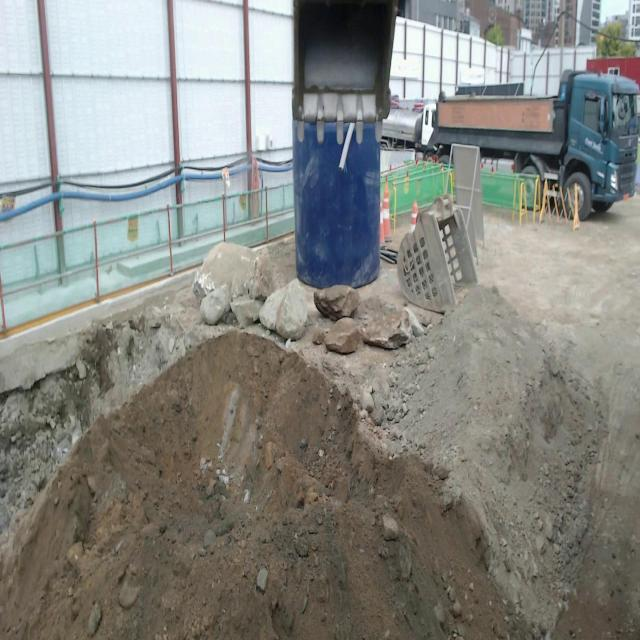red-sand: (0, 332, 520, 639)
rocks: (193, 241, 308, 339)
stone: (193, 241, 276, 327), (259, 279, 308, 340), (361, 308, 411, 349), (314, 285, 360, 321), (324, 318, 361, 354), (200, 285, 230, 325)
white-sand: (384, 285, 606, 636)
